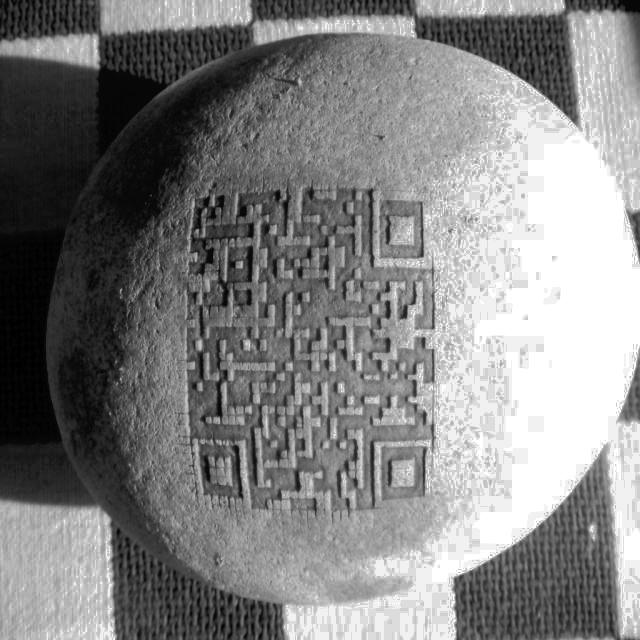qr_code: (187, 188, 432, 510)
